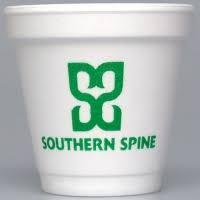Plastic cup: (4, 5, 192, 200)
